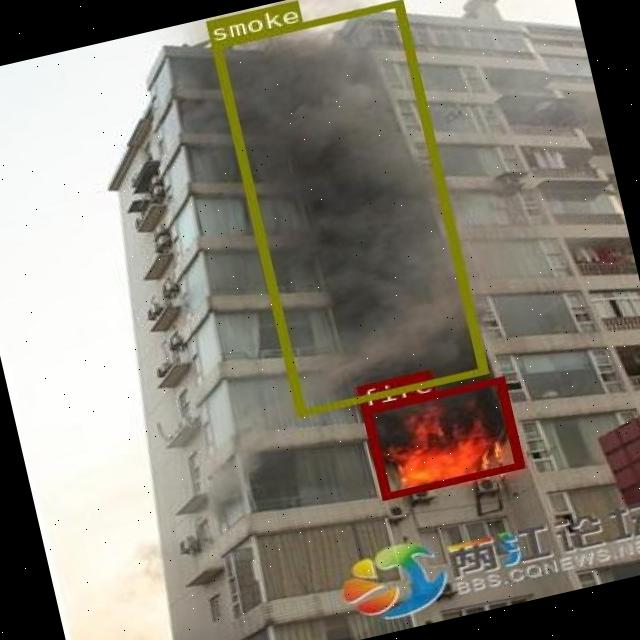fire: (360, 376, 522, 499)
smoke: (209, 0, 486, 414)
